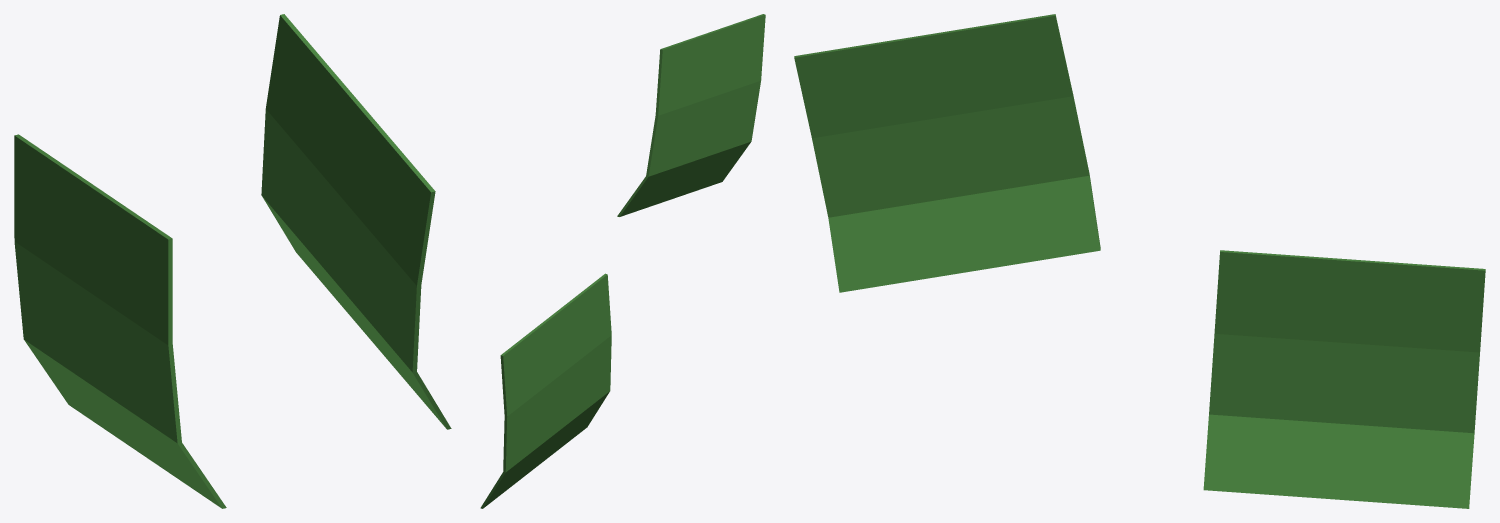
The model's file is Office_Stickers.fbx.
3 renders of one model, left to right at view 1: azimuth 30°, elevation 25°; view 2: azimuth 150°, elevation 25°; view 3: azimuth 270°, elevation 25°, orthographic. The views are drawn at different scales.
Parts seen in each view (by area): view 1: Office_Stickers; view 2: Office_Stickers; view 3: Office_Stickers.
Part boxes in pixels (x1=…): Office_Stickers: x1=14, y1=14, x2=451, y2=508; Office_Stickers: x1=480, y1=14, x2=765, y2=508; Office_Stickers: x1=794, y1=14, x2=1485, y2=508.
Size of the model in its own units: 3.83 by 34.84 by 45.89.
